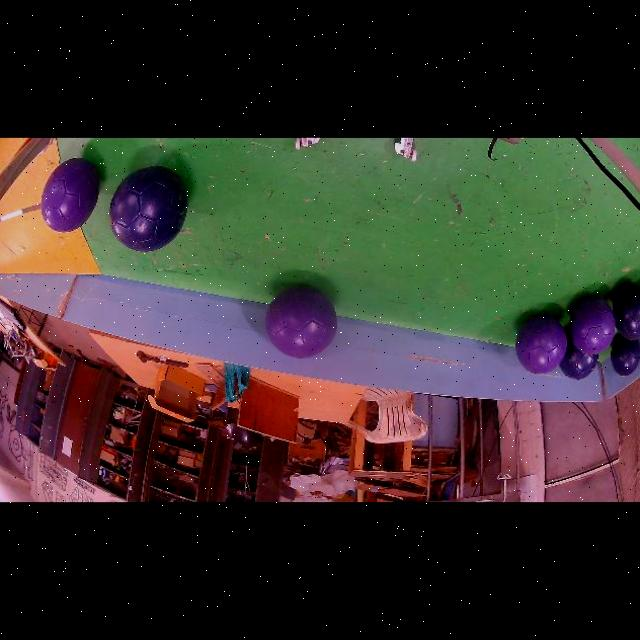B: (110, 167, 188, 252), (559, 333, 598, 379), (612, 282, 640, 340), (611, 335, 640, 376)
P: (265, 286, 337, 358), (41, 158, 99, 233), (516, 315, 567, 374), (569, 296, 616, 354)
